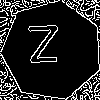Z: (27, 25, 61, 73)
